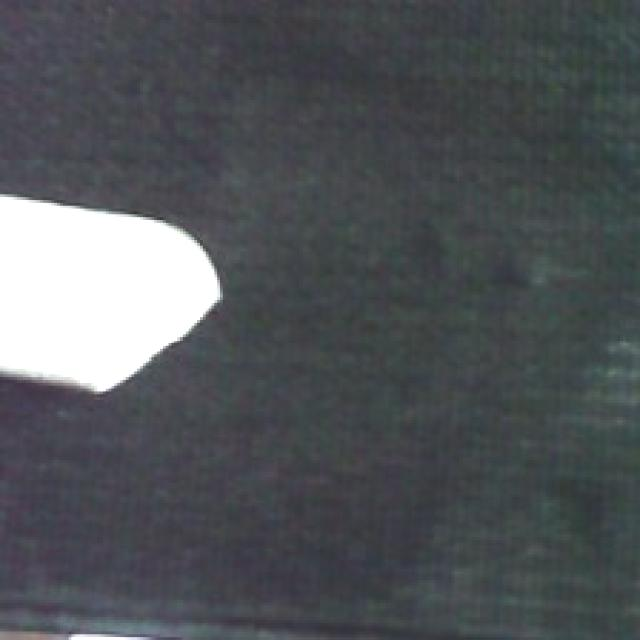defected: (0, 190, 226, 399)
